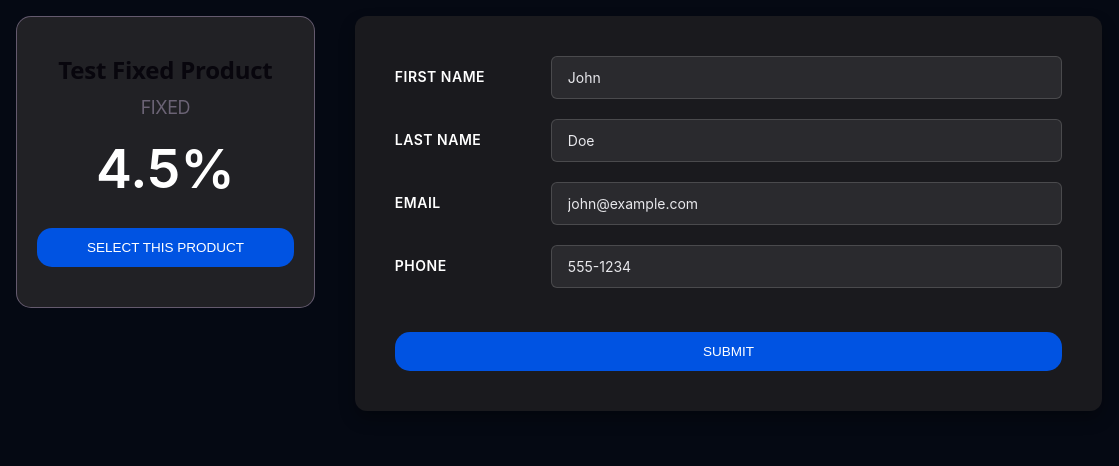
Form › shows an error message when updateApplication fails
The image size is (1119, 466).
Click the button "Submit": (728, 352) [395,332,1062,371]
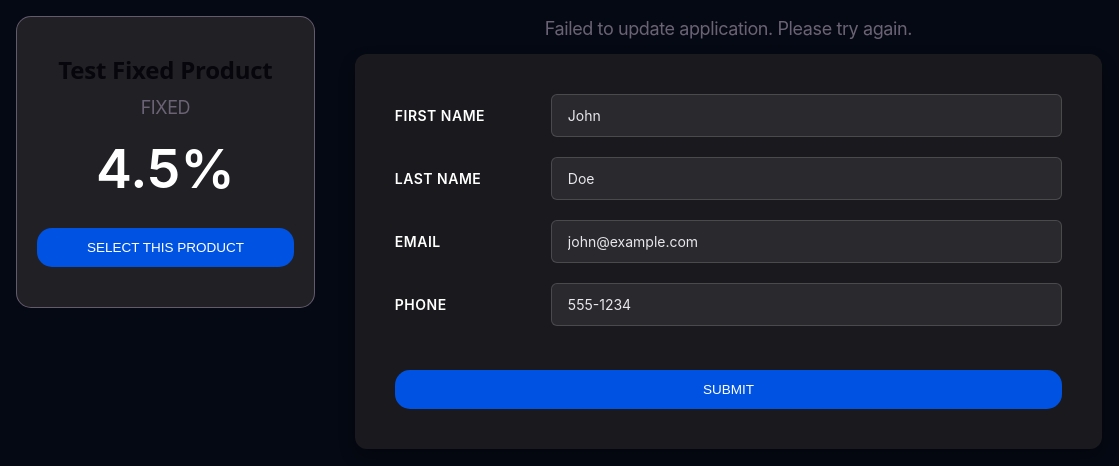
Now the 1st text "failed to update application" is shown, box [545,18,912,39]
